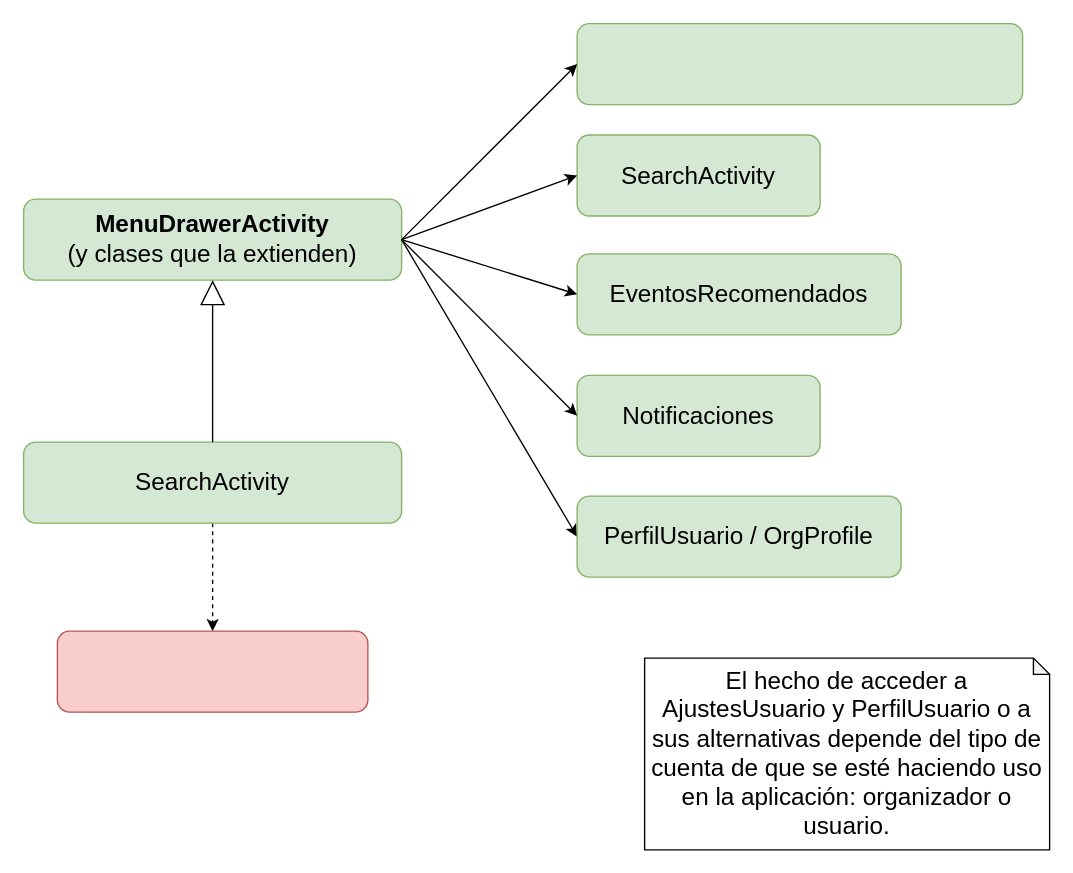
Some shapes in this 1073 by 873 pixel diagram are drawn without their labels. Here are the shapes that lost their labels. From the top down, the centre of each, then its label:
At point 799,63: "AjustesUsuario / AjustesOrganizador".
At point 212,671: "SupportMapFragment".
